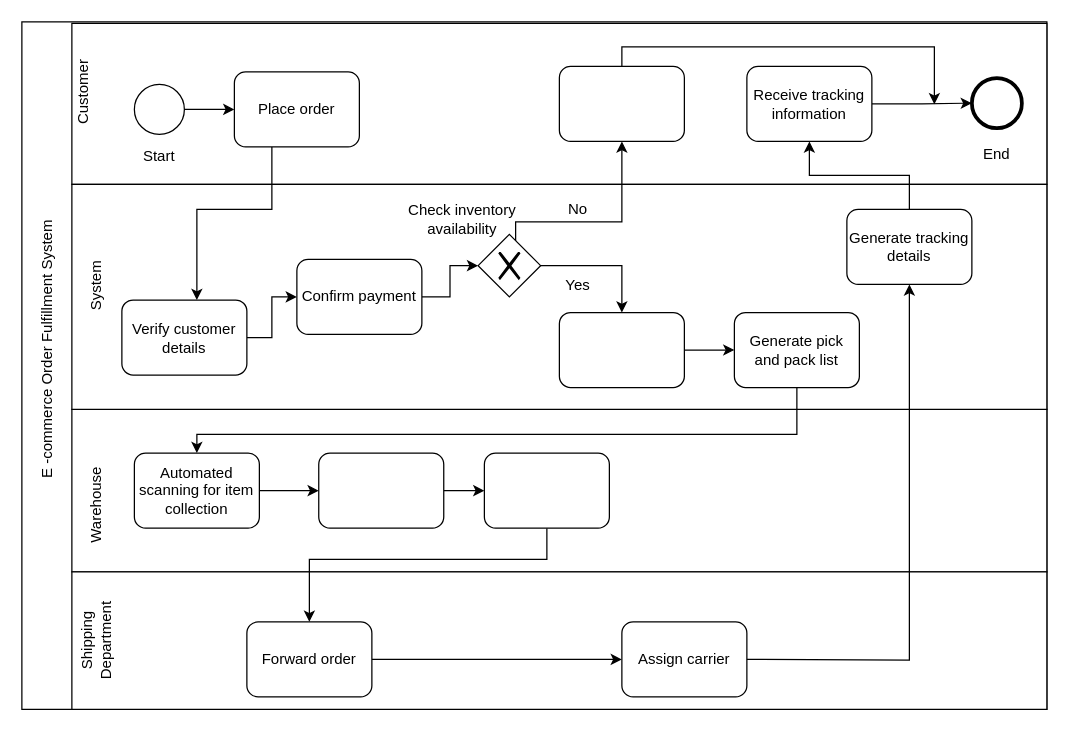
Some shapes in this 1069 by 731 pixel diagram are drawn without their labels. Here are the shapes that lost their labels. From the top down, the box of each, then its label:
(558, 65, 684, 141): Receive notification
(558, 311, 684, 388): Allocate stock and update inventory
(318, 452, 444, 528): Print labels
(483, 452, 609, 528): Quality control check
